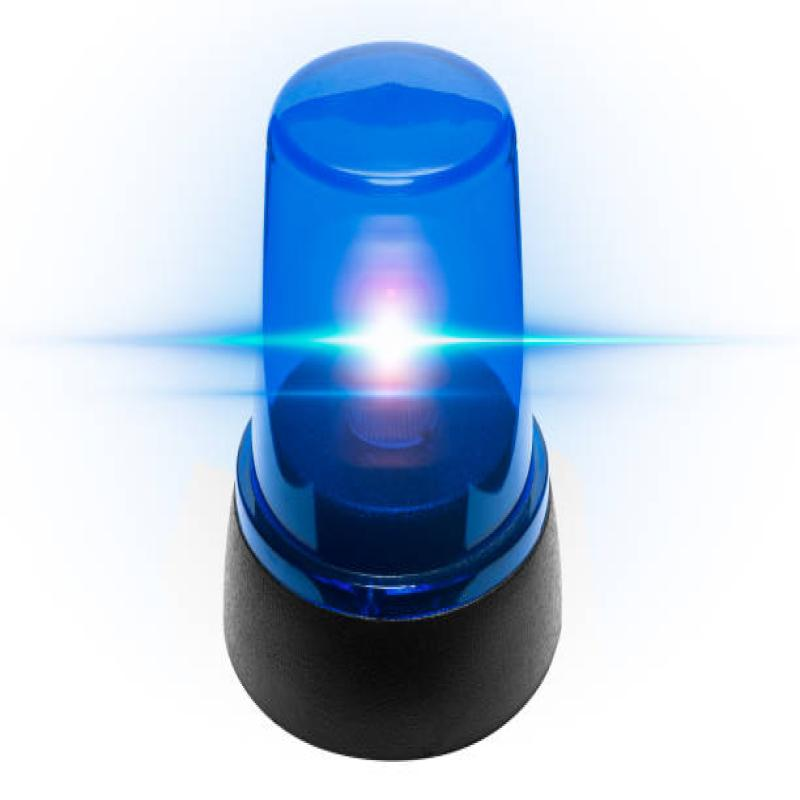AmbulanceSiren: (214, 36, 599, 756)
